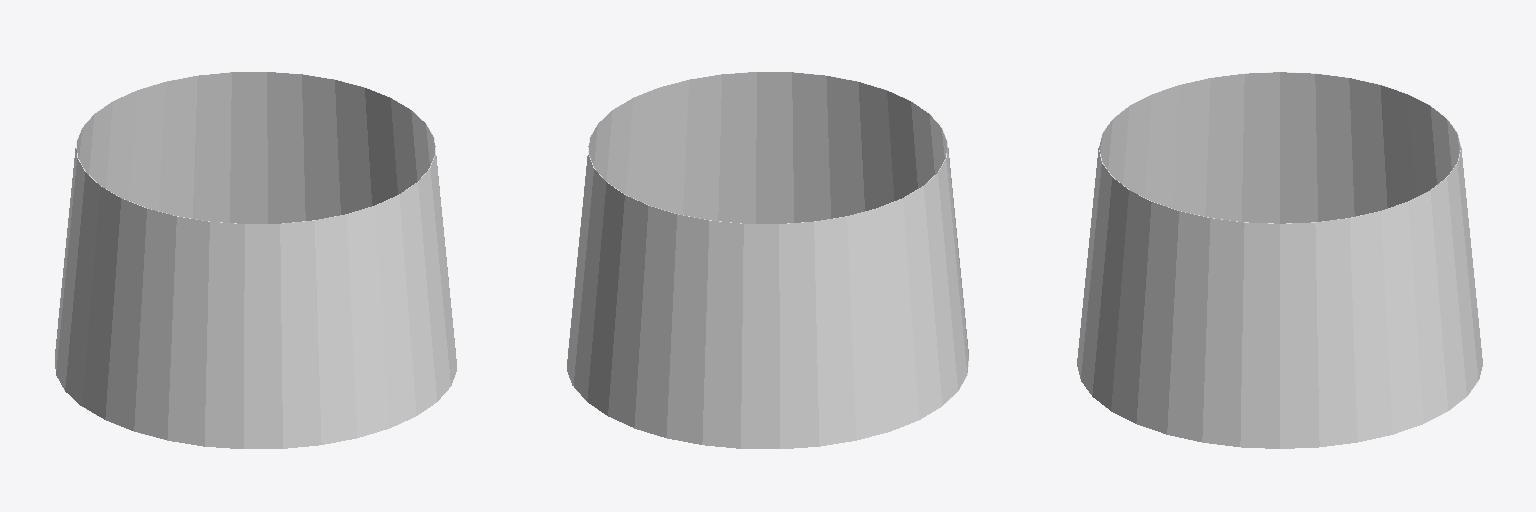
File: etichetta2.obj
3 views of the same model, side by side, from view 1: azimuth 30°, elevation 25°; view 2: azimuth 150°, elevation 25°; view 3: azimuth 270°, elevation 25° (orthographic).
Visible parts, largest first — view 1: etichetta.2; view 2: etichetta.2; view 3: etichetta.2.
Part boxes in pixels (x1,y1,x2,y2): etichetta.2: (55, 72, 456, 448); etichetta.2: (567, 72, 968, 448); etichetta.2: (1077, 72, 1482, 448).
Bounding box in the file's own units: 124 × 73.62 × 125.